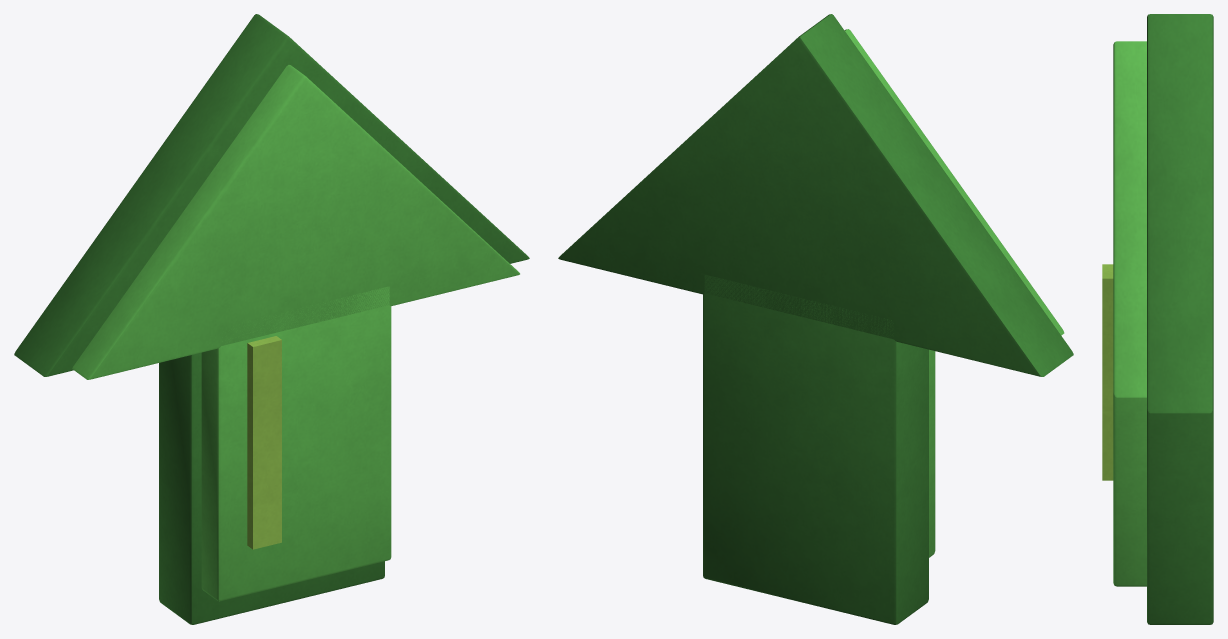
The model's file is flecha_mejora.gltf.
3 renders of one model, left to right at view 1: azimuth 30°, elevation 25°; view 2: azimuth 150°, elevation 25°; view 3: azimuth 270°, elevation 25°, orthographic.
Parts seen in each view (by area): view 1: flecha_mejora; view 2: flecha_mejora; view 3: flecha_mejora.
Boxes of the visible parts, box(x1,y1,x2,y2) form: flecha_mejora: box(14, 14, 529, 624); flecha_mejora: box(558, 14, 1073, 624); flecha_mejora: box(1102, 14, 1213, 624).
Size of the model in its own units: 1 by 1.12 by 0.2.
Materials: 3 (3 with a texture image).
